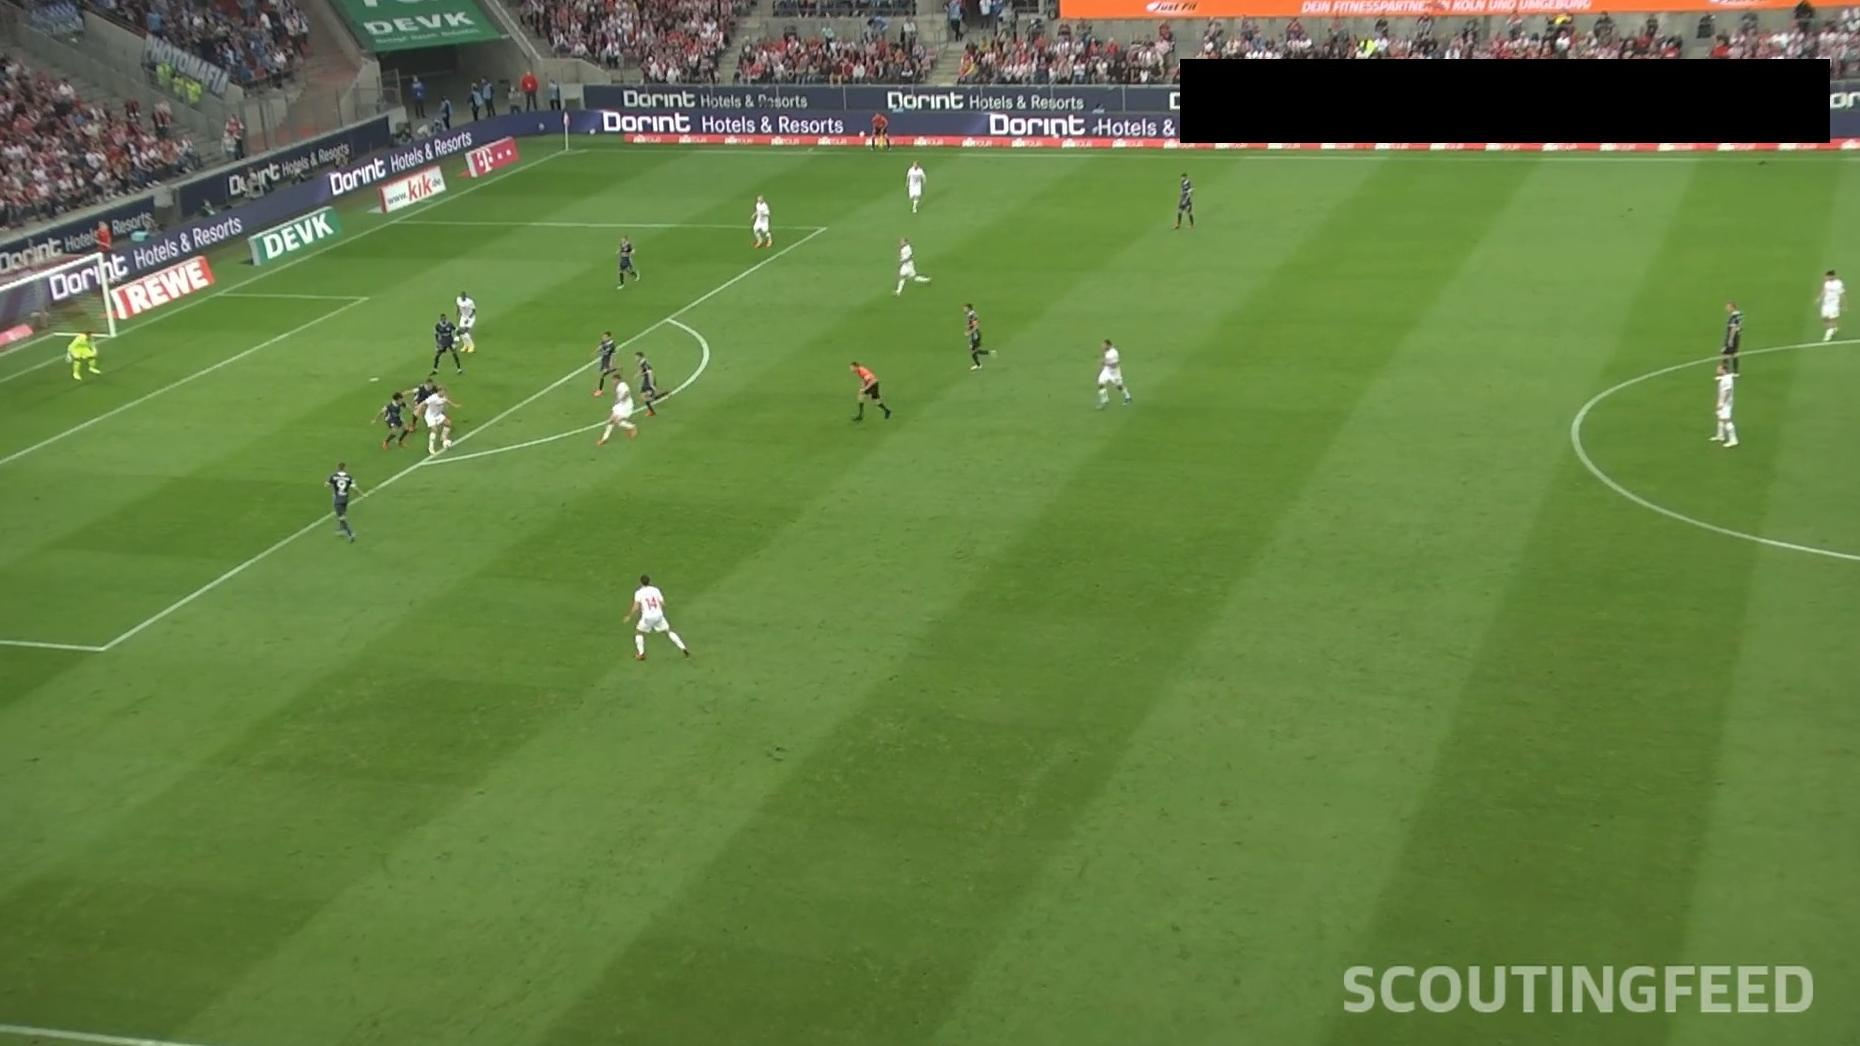ball: (442, 438, 454, 450)
